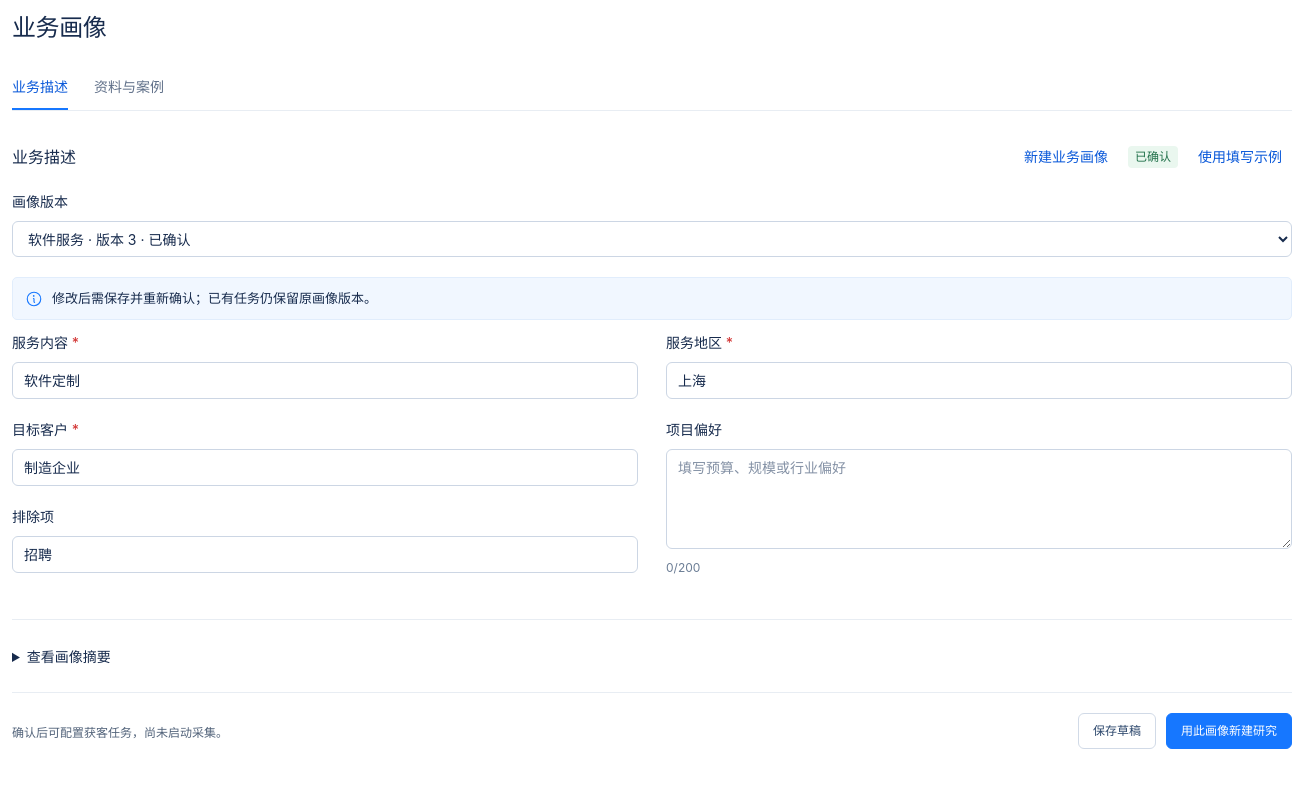
Test: 确认画像后的研究入口 › 修改已确认画像后须重新确认，不用旧版本悄悄进入研究
Expected: the field showing "软件定制" is shown, [12, 362, 638, 399]
Expected: the button "用此画像新建研究" is shown, [1166, 713, 1292, 749]
Replace the text in the field named "服务地区" with "北京". click: (979,380)
box: [666, 362, 1292, 399]
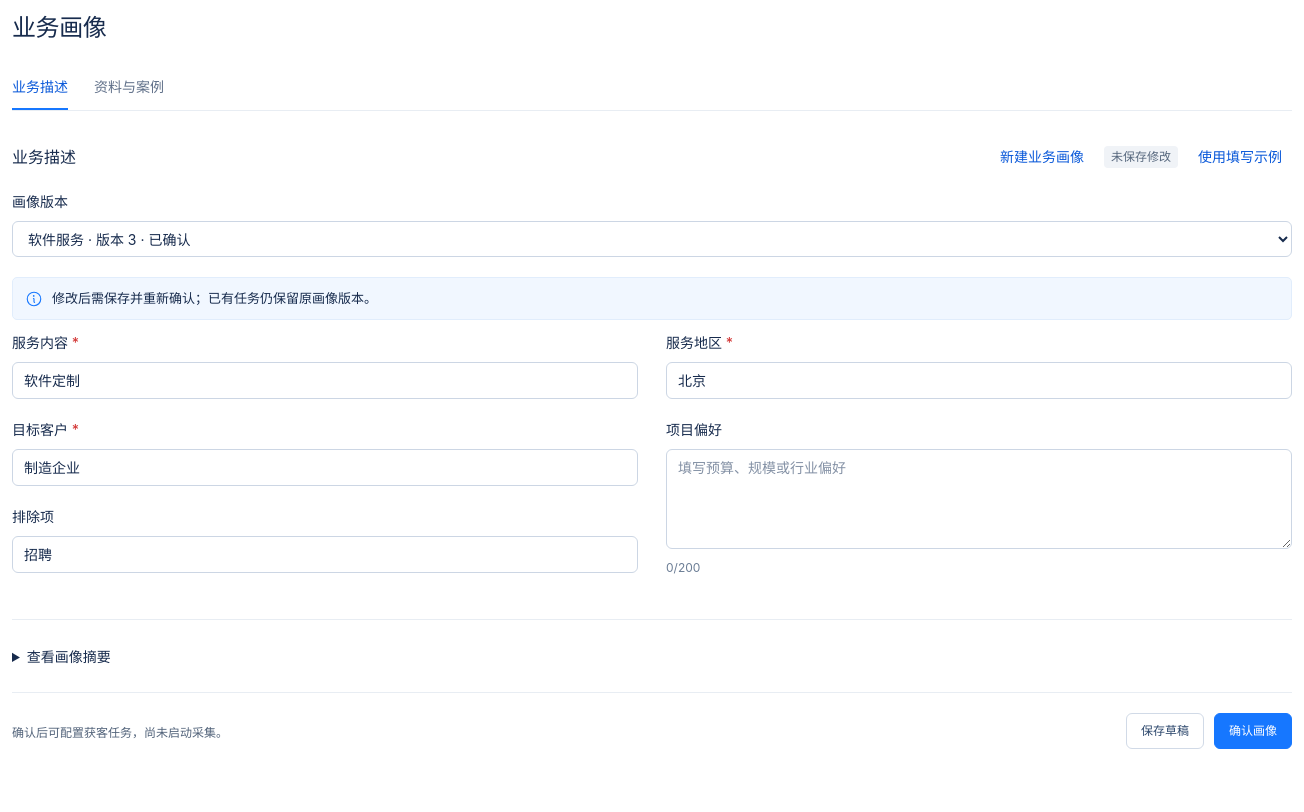
Expected: the button "用此画像新建研究" is gone
Expected: the button "确认画像" is shown, [1214, 713, 1292, 749]
